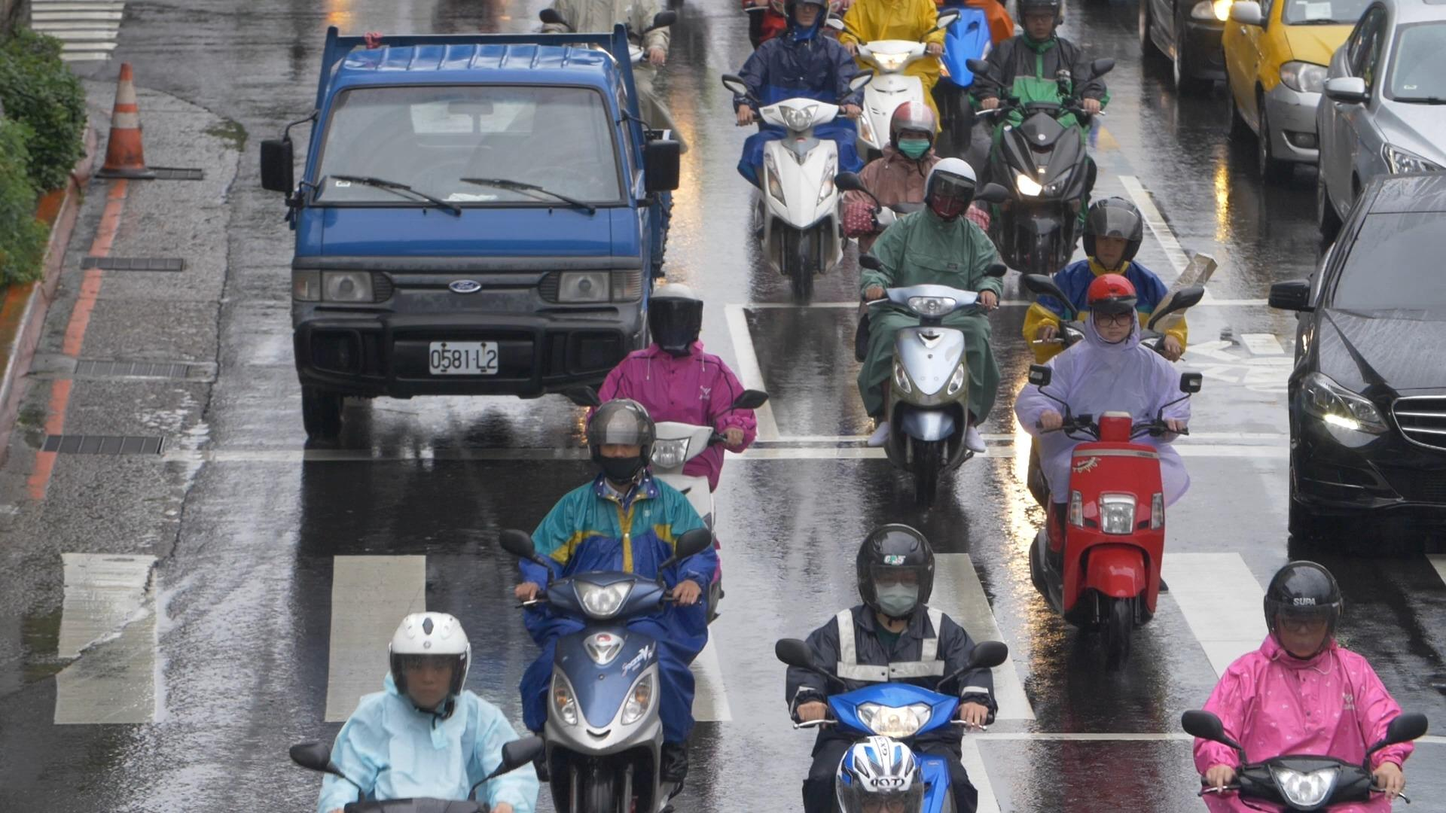driver: (500, 397, 718, 813), (1017, 271, 1201, 663), (775, 523, 1009, 813), (1181, 560, 1426, 813), (596, 281, 772, 626), (857, 155, 1007, 508), (288, 613, 543, 813), (721, 0, 875, 300), (964, 0, 1119, 279)
helmet: (386, 612, 472, 730), (857, 523, 936, 630), (1262, 560, 1344, 660), (587, 399, 657, 486), (1082, 196, 1143, 272), (646, 282, 705, 359), (1083, 274, 1138, 348), (889, 100, 938, 178), (923, 157, 978, 223), (1015, 0, 1065, 45), (783, 0, 832, 33)
